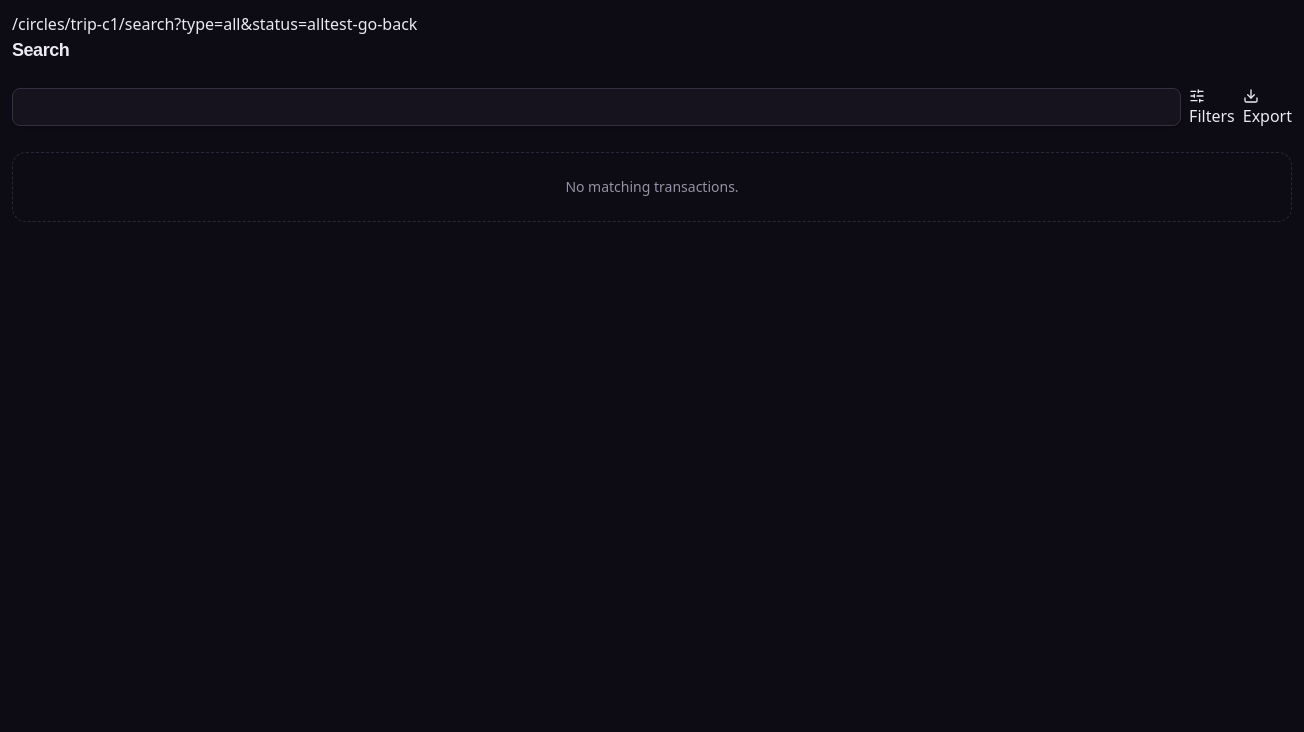
Test: CircleSearch › shows guidance when export refuses for too many rows
Click the button "Export" at (1267, 108), box [1243,88,1292,128]
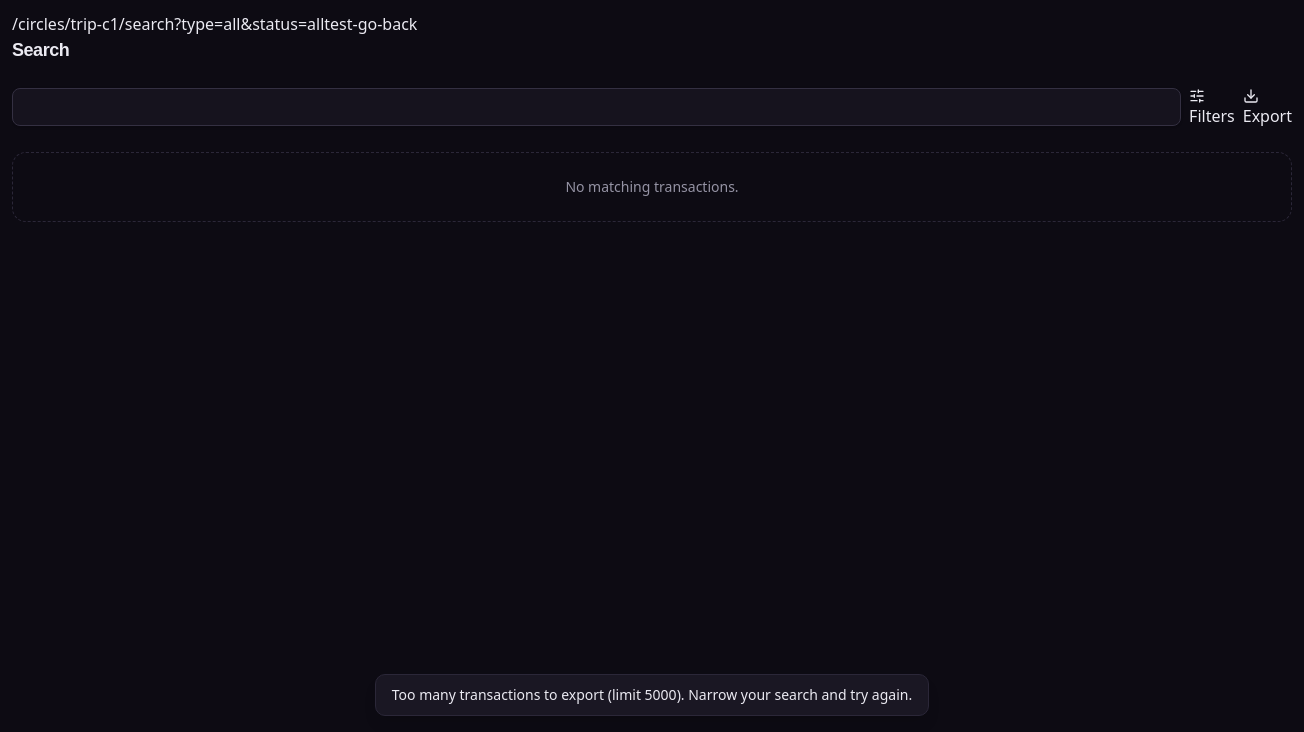
Result: the text "Too many transactions to export (limit 5000)" is shown at [392,685,912,704]
